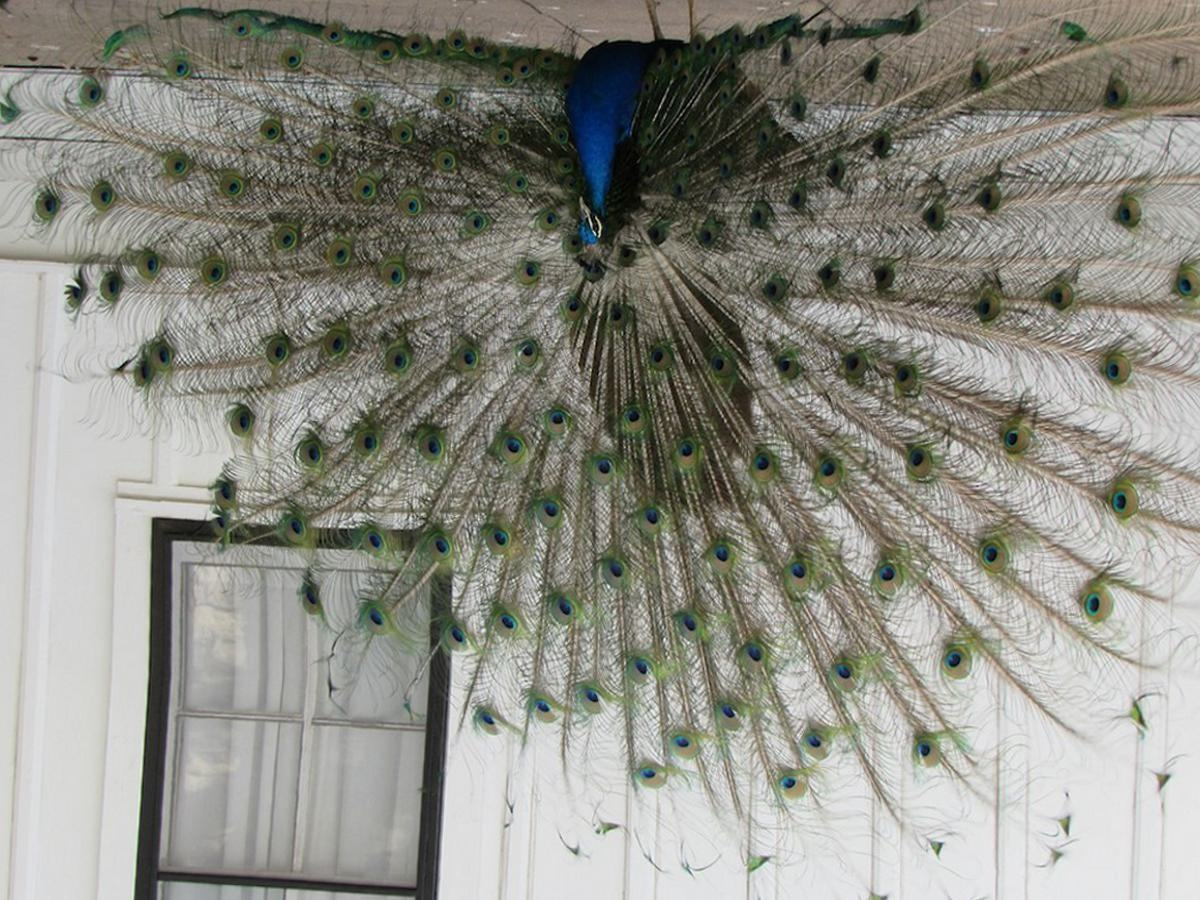peacock: (308, 1, 1059, 526)
